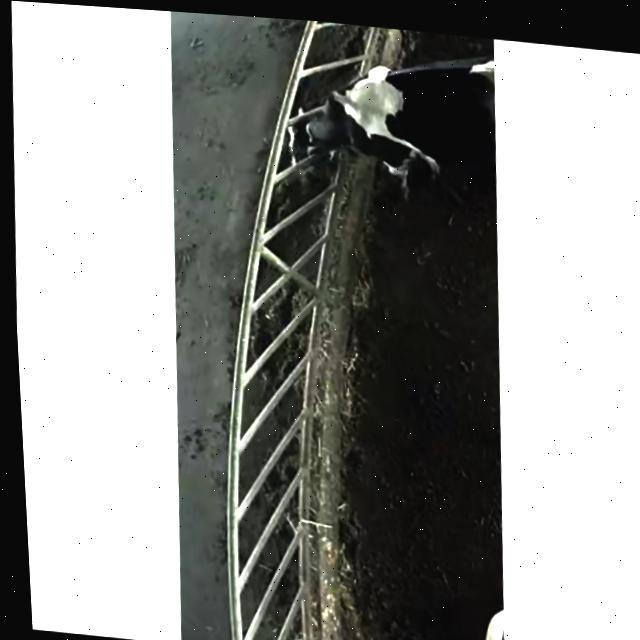eat: (214, 38, 434, 213)
